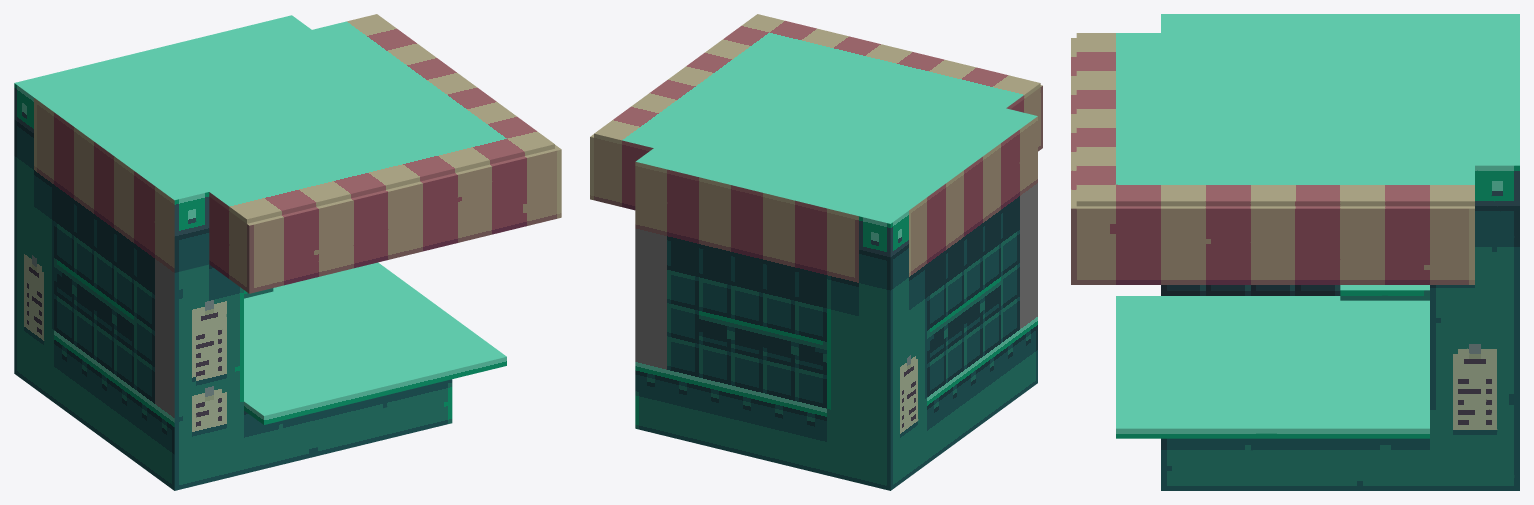
File: food_counter_aao.fezao.glb
3 renders of one model, left to right at view 1: azimuth 30°, elevation 25°; view 2: azimuth 150°, elevation 25°; view 3: azimuth 270°, elevation 25°, orthographic. The views are drawn at different scales.
Visible parts, largest first — view 1: FOOD_COUNTER_AAO; view 2: FOOD_COUNTER_AAO; view 3: FOOD_COUNTER_AAO.
Boxes of the visible parts, bbox=[...] form: FOOD_COUNTER_AAO: bbox=[14, 14, 561, 490]; FOOD_COUNTER_AAO: bbox=[590, 14, 1042, 490]; FOOD_COUNTER_AAO: bbox=[1071, 14, 1519, 490].
Bounding box in the file's own units: 5 × 4 × 5.
Materials: 1 (1 with a texture image).
